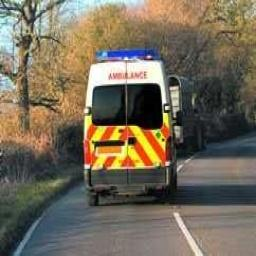ambulance: (84, 49, 179, 204), (168, 75, 205, 150)
